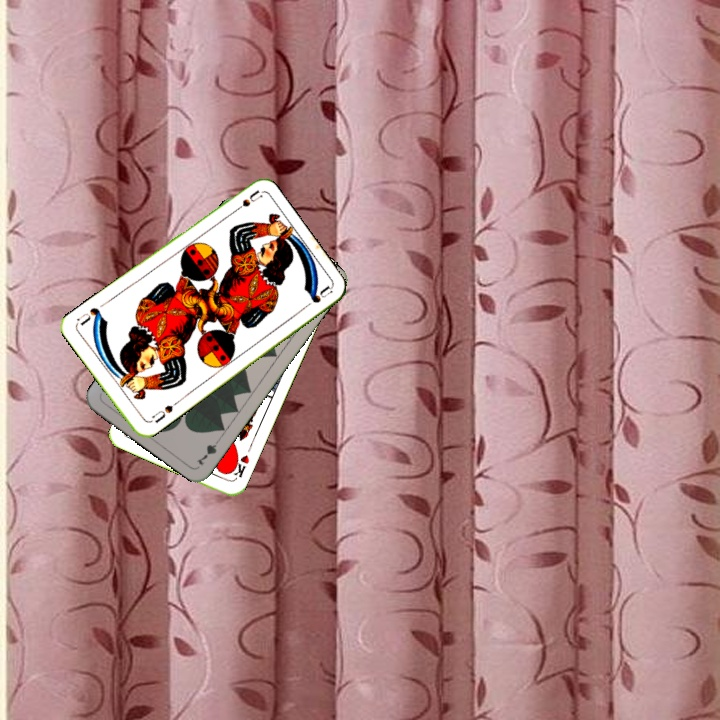G7: (193, 433, 224, 469)
HK: (226, 451, 252, 482)
SU: (227, 187, 264, 217), (145, 397, 181, 426)
